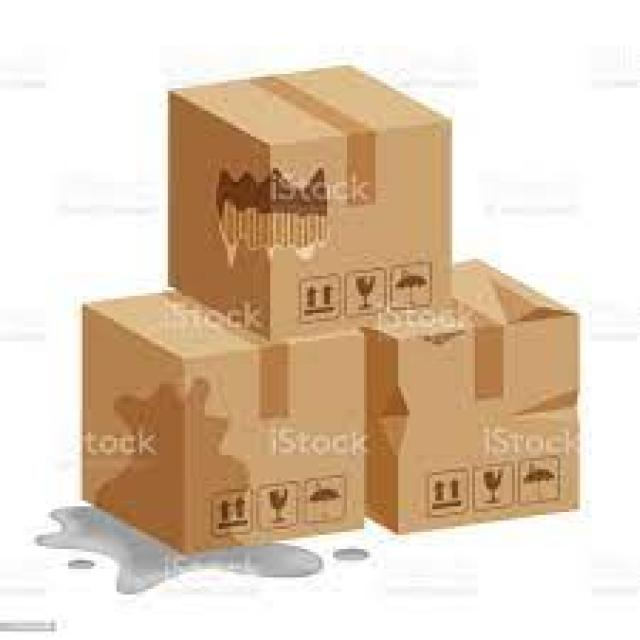Kardus kondisi bagus: (28, 277, 367, 604), (165, 62, 462, 345), (297, 262, 581, 535)
